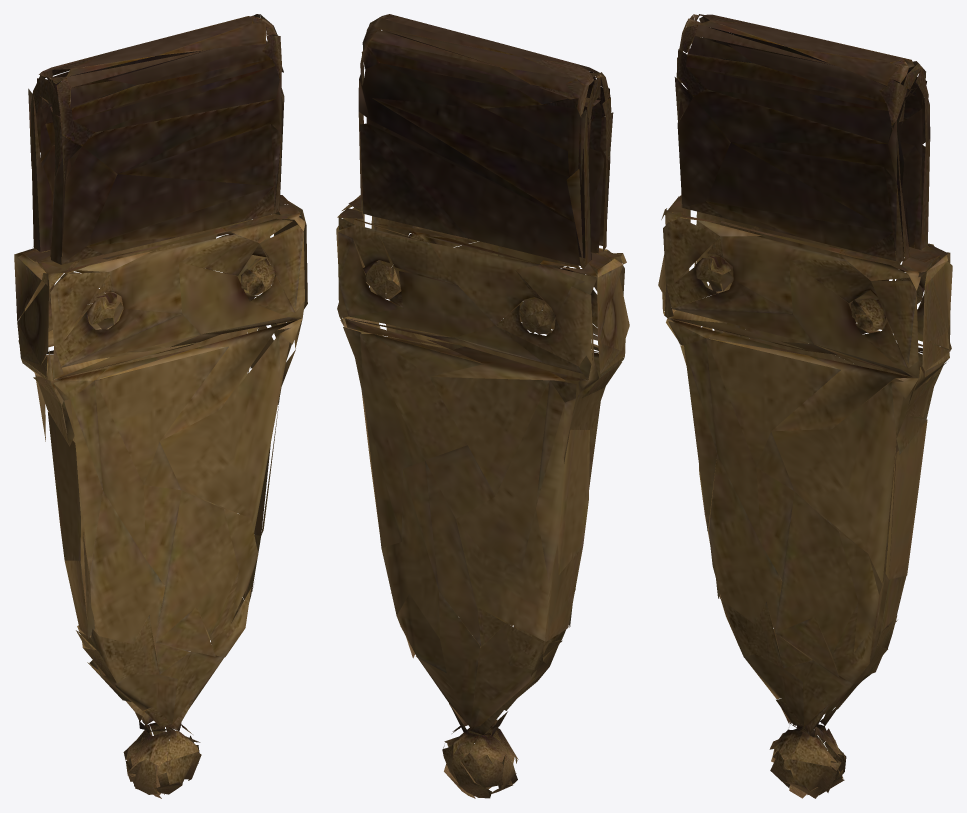
File: strap_end_p2_w1.glb
The picture shows the model from 3 angles, left to right: view 1: azimuth 30°, elevation 25°; view 2: azimuth 150°, elevation 25°; view 3: azimuth 330°, elevation 25°; orthographic projection.
Parts seen in each view (by area): view 1: strap_end_p2_w1; view 2: strap_end_p2_w1; view 3: strap_end_p2_w1.
Part boxes in pixels (left/top/right/bottom): strap_end_p2_w1: left=14, top=14, right=307, bottom=798; strap_end_p2_w1: left=336, top=14, right=629, bottom=798; strap_end_p2_w1: left=658, top=14, right=952, bottom=798.
Bounding box in the file's own units: 0.031 × 0.0852 × 0.00826.
1 material, 1 textured.
